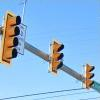traffic lights: (4, 10, 21, 66), (50, 38, 64, 75), (83, 61, 95, 89)
